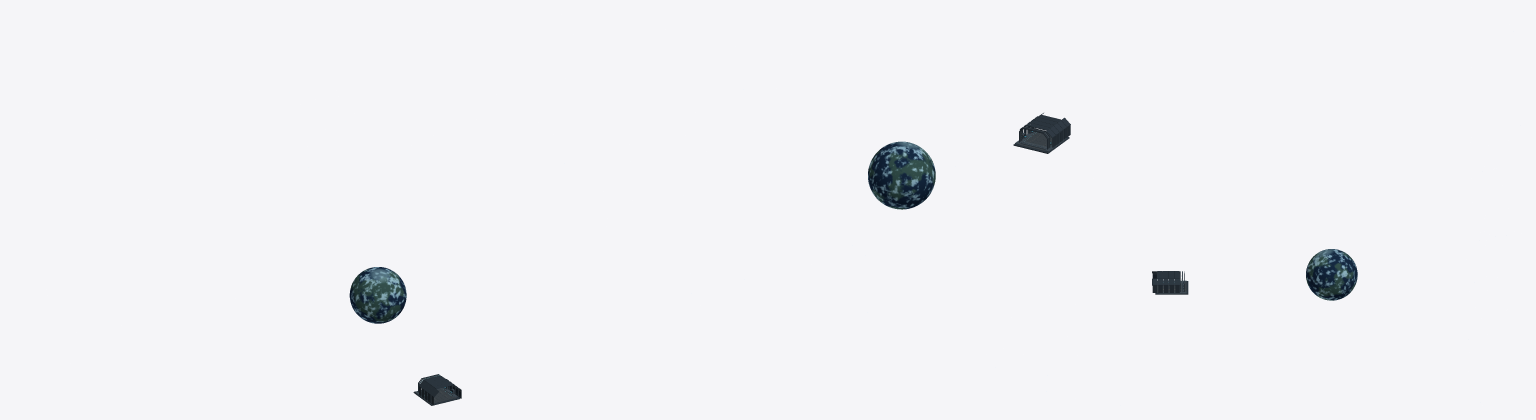
The model's file is observatory.glb.
3 views of the same model, side by side, from view 1: azimuth 30°, elevation 25°; view 2: azimuth 150°, elevation 25°; view 3: azimuth 270°, elevation 25° (orthographic). The views are drawn at different scales.
Parts seen in each view (by area): view 1: observatory_planet_mesh, observatory_edge_mesh; view 2: observatory_planet_mesh, observatory_edge_mesh; view 3: observatory_planet_mesh, observatory_edge_mesh.
Boxes of the visible parts, bbox=[...] form: observatory_planet_mesh: bbox=[349, 267, 406, 323]; observatory_edge_mesh: bbox=[413, 374, 461, 405]; observatory_planet_mesh: bbox=[868, 141, 935, 209]; observatory_edge_mesh: bbox=[1013, 113, 1070, 153]; observatory_planet_mesh: bbox=[1306, 249, 1357, 300]; observatory_edge_mesh: bbox=[1152, 271, 1188, 294].
Bounding box in the file's own units: 219 × 104 × 157.
Materials: 10 (1 with a texture image).
